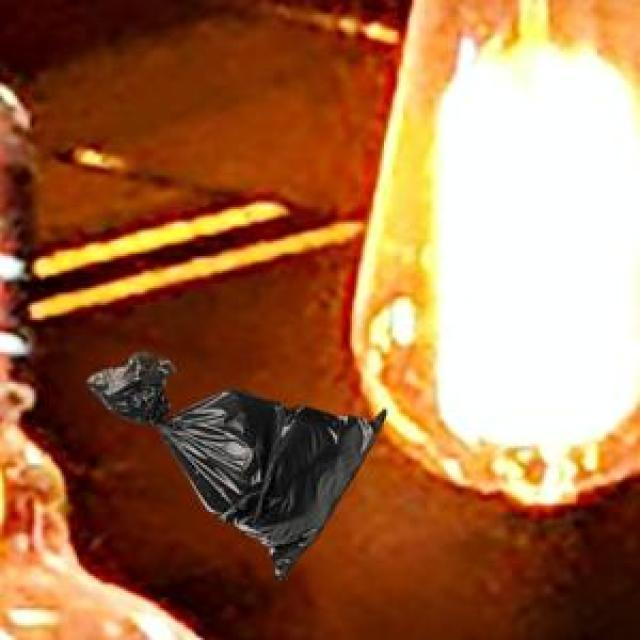Trashbag: (82, 348, 392, 585)
